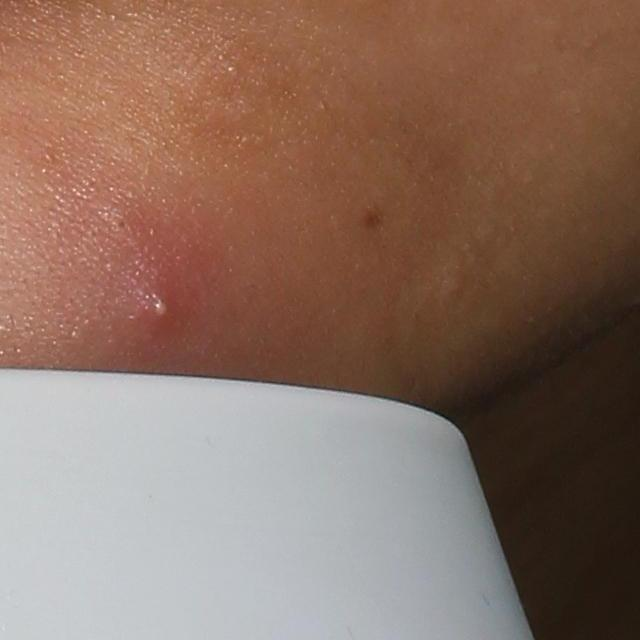pustule: (140, 286, 182, 330)
